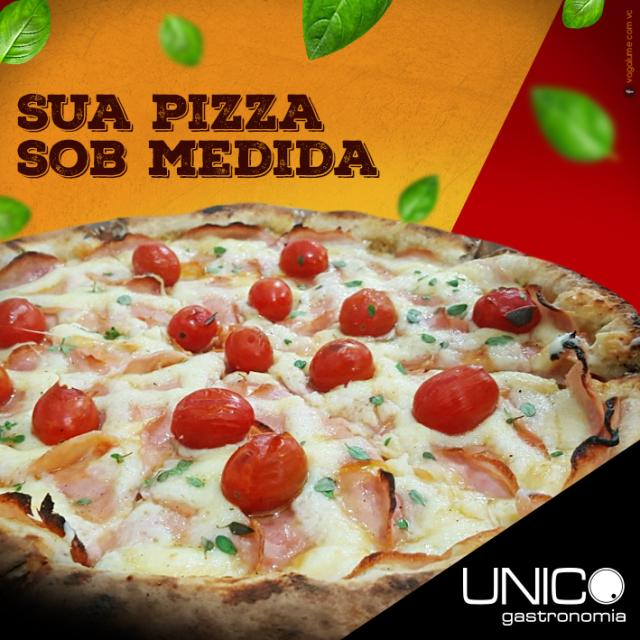pizza: (0, 198, 640, 640)
tomatoes: (213, 434, 315, 514), (411, 362, 501, 437), (169, 385, 252, 451), (31, 383, 100, 449), (308, 338, 376, 396), (472, 286, 541, 334), (336, 288, 400, 338), (162, 304, 220, 353), (0, 293, 48, 351), (245, 274, 295, 324), (129, 243, 184, 288), (223, 326, 274, 374), (276, 236, 329, 280), (0, 363, 17, 408)
